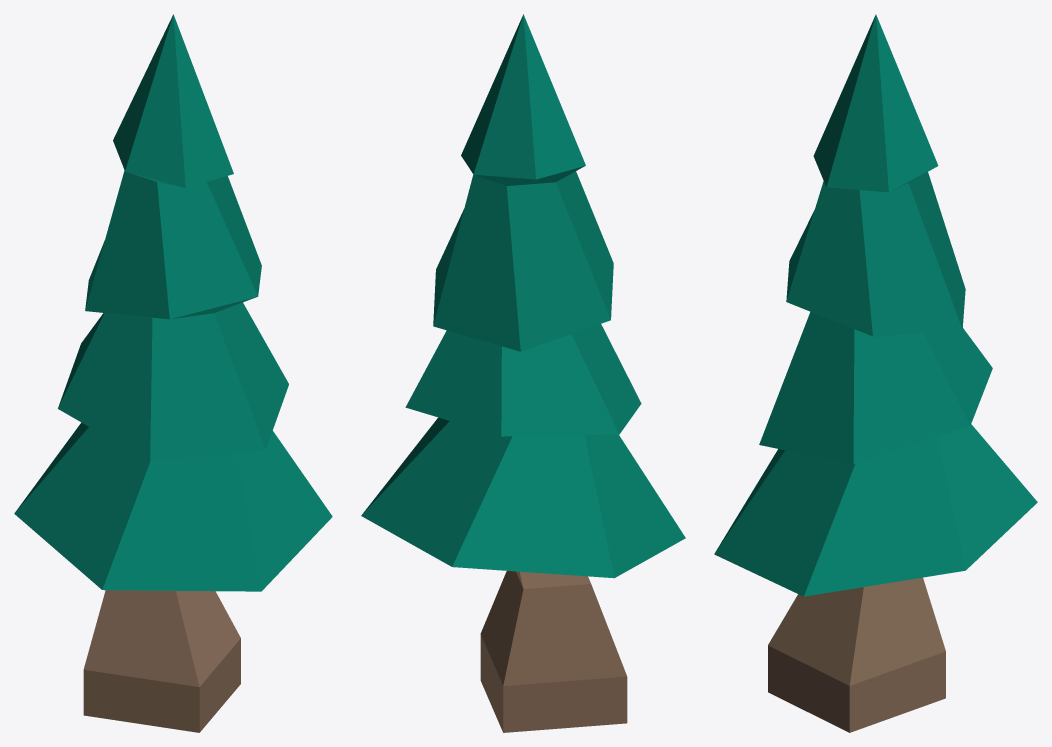
Rendered from Pine_06_Mesh.fbx.
3 renders of one model, left to right at view 1: azimuth 30°, elevation 25°; view 2: azimuth 150°, elevation 25°; view 3: azimuth 270°, elevation 25°, orthographic. The views are drawn at different scales.
Visible parts, largest first — view 1: Pine.005_LOD0; view 2: Pine.005_LOD0; view 3: Pine.005_LOD0.
Part boxes in pixels (<box>): Pine.005_LOD0: <box>14,14,332,732</box>; Pine.005_LOD0: <box>361,14,685,732</box>; Pine.005_LOD0: <box>714,14,1037,732</box>.
Size of what is drawn, in the model's own units: 13702 by 35535 by 15084.
